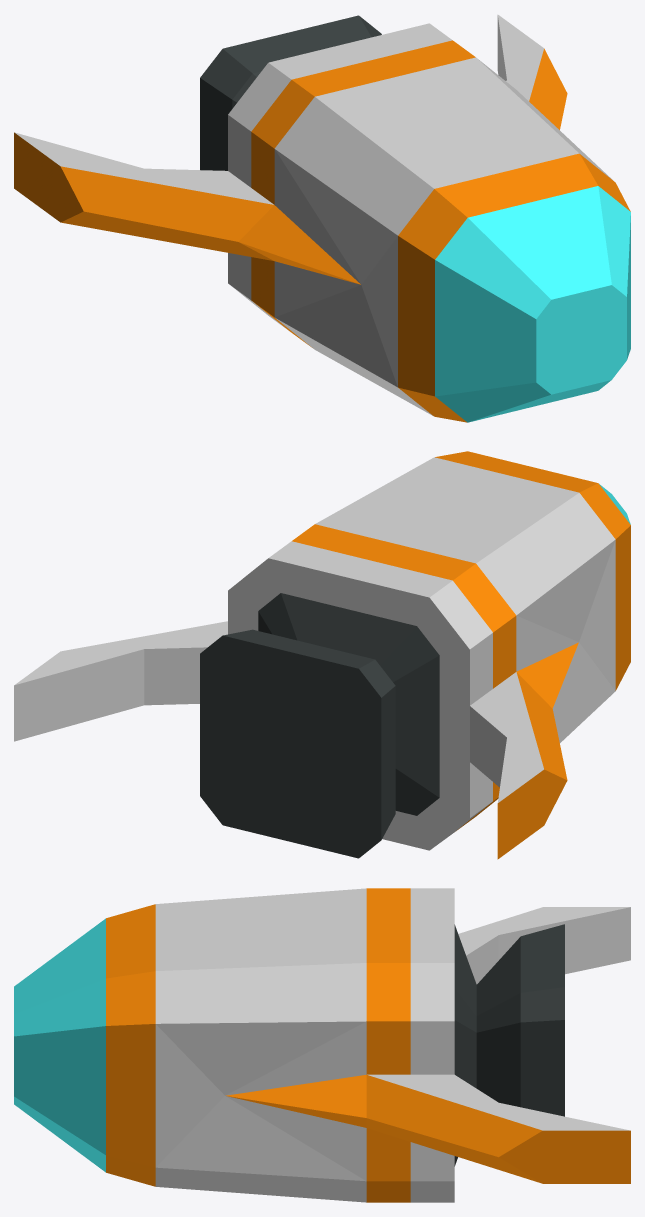
File: lander.fbx
3 views of the same model, one above another, from view 1: azimuth 30°, elevation 25°; view 2: azimuth 150°, elevation 25°; view 3: azimuth 270°, elevation 25° (orthographic). The views are drawn at different scales.
Visible parts, largest first — view 1: lander; view 2: lander; view 3: lander.
Boxes of the visible parts, x1=… form: lander: x1=14, y1=14, x2=630, y2=422; lander: x1=14, y1=451, x2=630, y2=859; lander: x1=14, y1=888, x2=630, y2=1202.
Bounding box in the file's own units: 231 × 116 × 270.
Materials: 1 (1 with a texture image).
